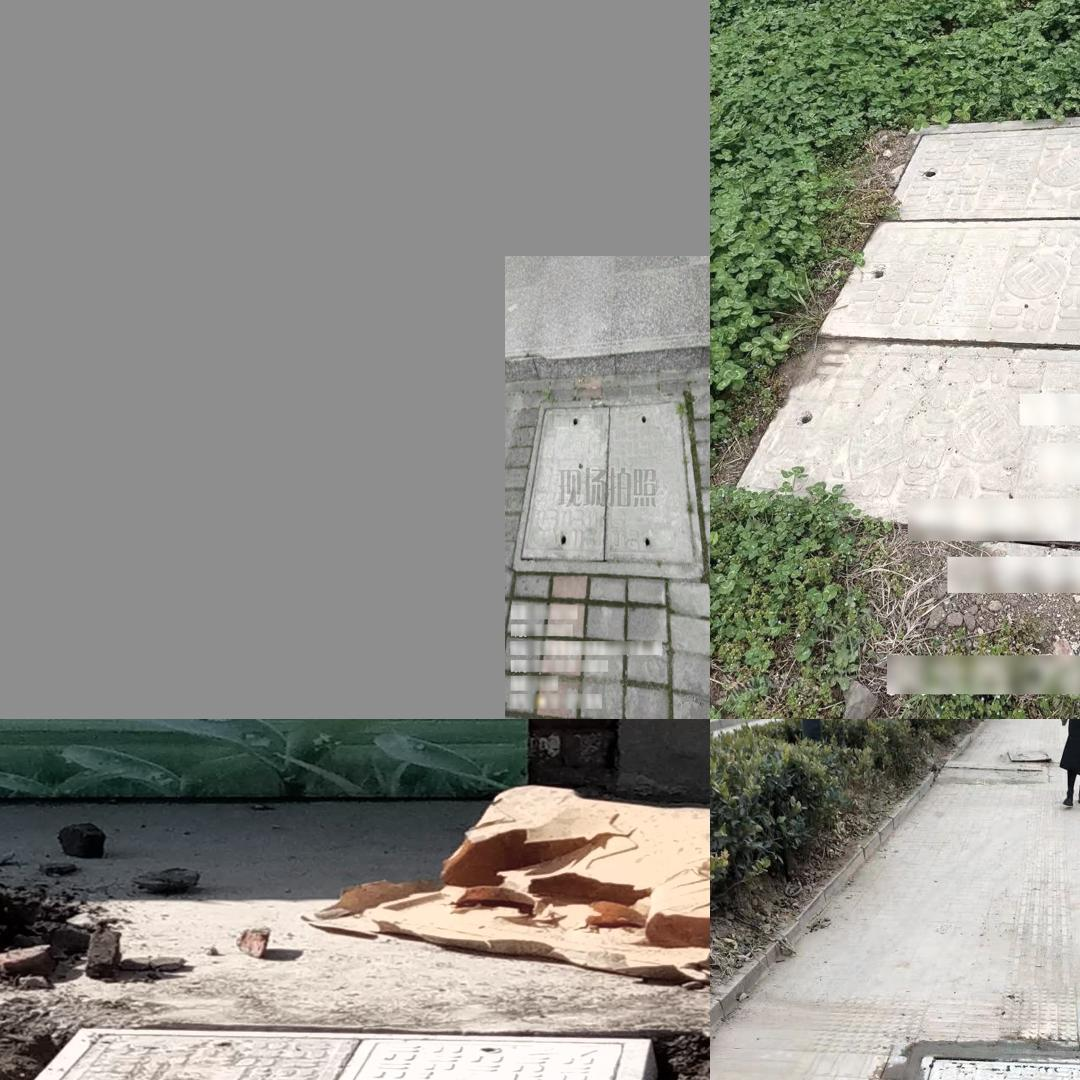good: (731, 103, 1080, 604), (512, 394, 704, 577), (0, 1028, 655, 1080), (868, 1058, 1080, 1080)
